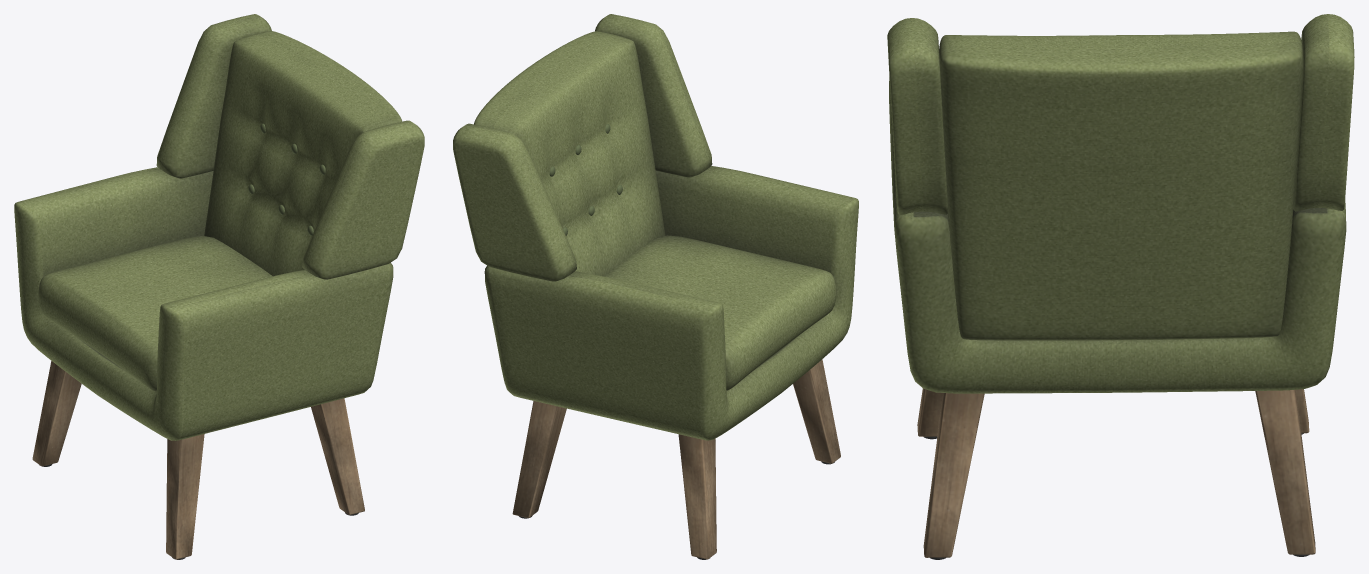
File: armchair.glb
3 renders of one model, left to right at view 1: azimuth 30°, elevation 25°; view 2: azimuth 150°, elevation 25°; view 3: azimuth 270°, elevation 25°, orthographic. The views are drawn at different scales.
Visible parts, largest first — view 1: Chair; view 2: Chair; view 3: Chair.
Boxes of the visible parts, <box> form: Chair: <box>14,14,424,559</box>; Chair: <box>453,14,858,559</box>; Chair: <box>887,14,1354,559</box>.
Bounding box in the file's own units: 0.6521 × 0.8924 × 0.6943.
Materials: 1 (1 with a texture image).
